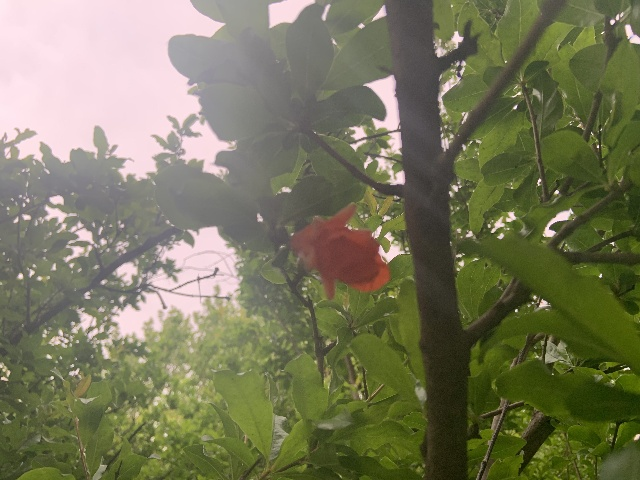flower: (290, 203, 390, 301)
